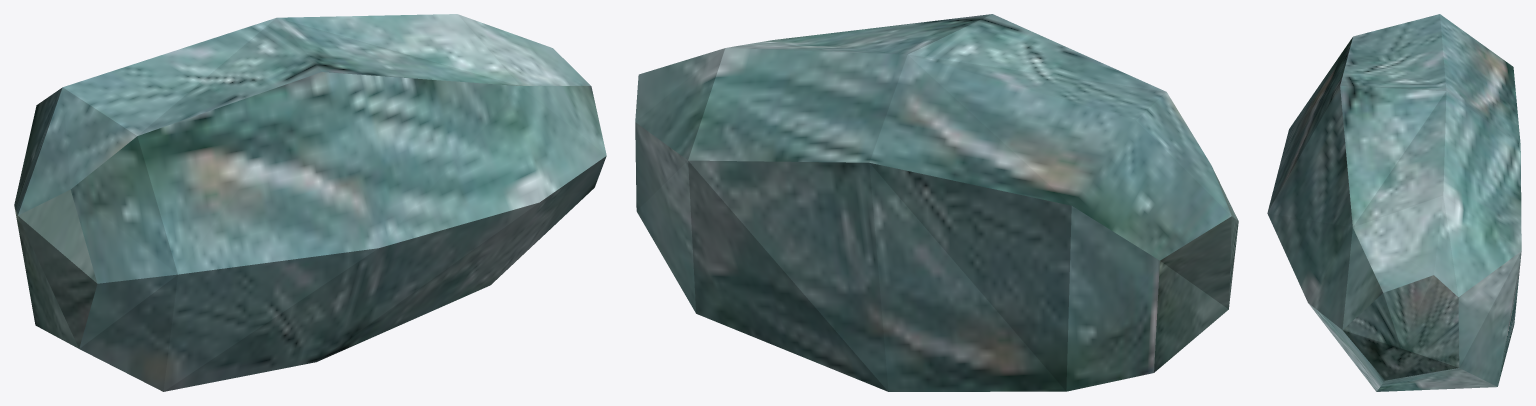
File: Trashbag03.obj
3 renders of one model, left to right at view 1: azimuth 30°, elevation 25°; view 2: azimuth 150°, elevation 25°; view 3: azimuth 270°, elevation 25°, orthographic. The views are drawn at different scales.
Visible parts, largest first — view 1: Trashbag03; view 2: Trashbag03; view 3: Trashbag03.
Boxes of the visible parts, box(x1,y1,x2,y2) form: Trashbag03: box(14, 14, 606, 391); Trashbag03: box(635, 14, 1238, 391); Trashbag03: box(1267, 14, 1521, 391).
Size of the model in its own units: 1.68 by 0.8113 by 0.7706.
